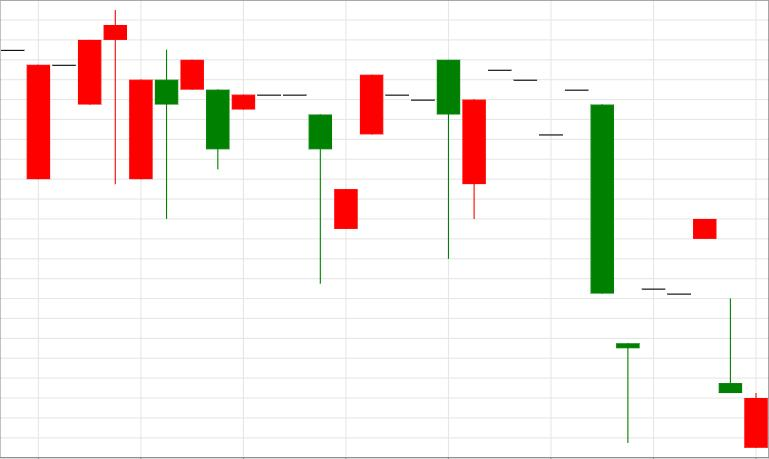hammer_rise: (180, 60, 331, 283)
